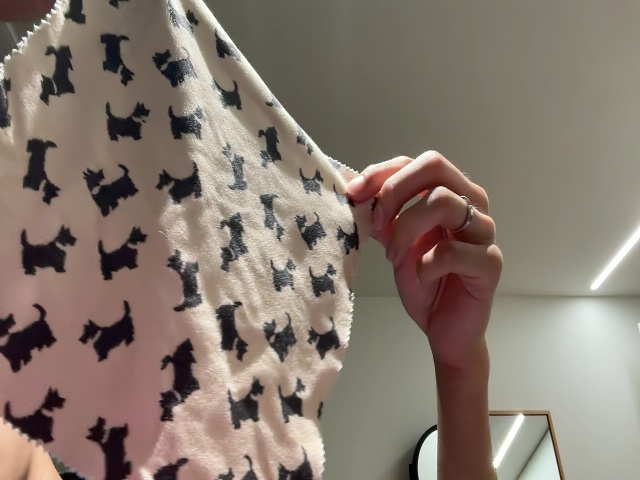towel: (1, 3, 378, 480)
